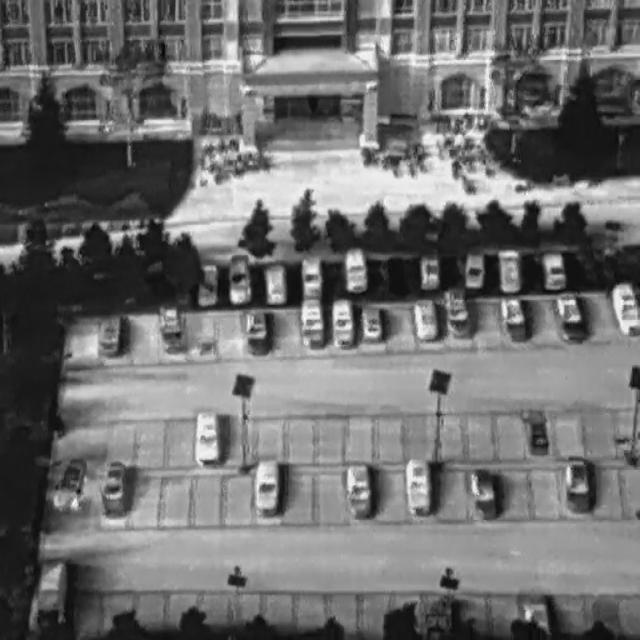Car: (48, 449, 91, 515), (36, 559, 68, 631), (466, 462, 500, 524), (552, 288, 586, 348), (498, 290, 531, 348), (155, 295, 185, 356), (441, 284, 473, 341), (609, 278, 638, 336), (564, 454, 591, 514), (102, 458, 129, 518), (405, 455, 432, 514), (520, 403, 550, 455), (345, 462, 372, 518), (254, 459, 280, 515), (225, 250, 253, 301), (194, 409, 219, 465), (411, 294, 440, 341), (343, 242, 370, 292), (495, 244, 523, 292), (331, 295, 355, 350), (96, 308, 122, 358), (244, 308, 270, 357), (300, 297, 324, 348), (541, 249, 564, 289), (265, 262, 286, 304), (465, 245, 486, 287), (197, 262, 217, 306), (302, 254, 323, 295), (419, 250, 440, 290)
